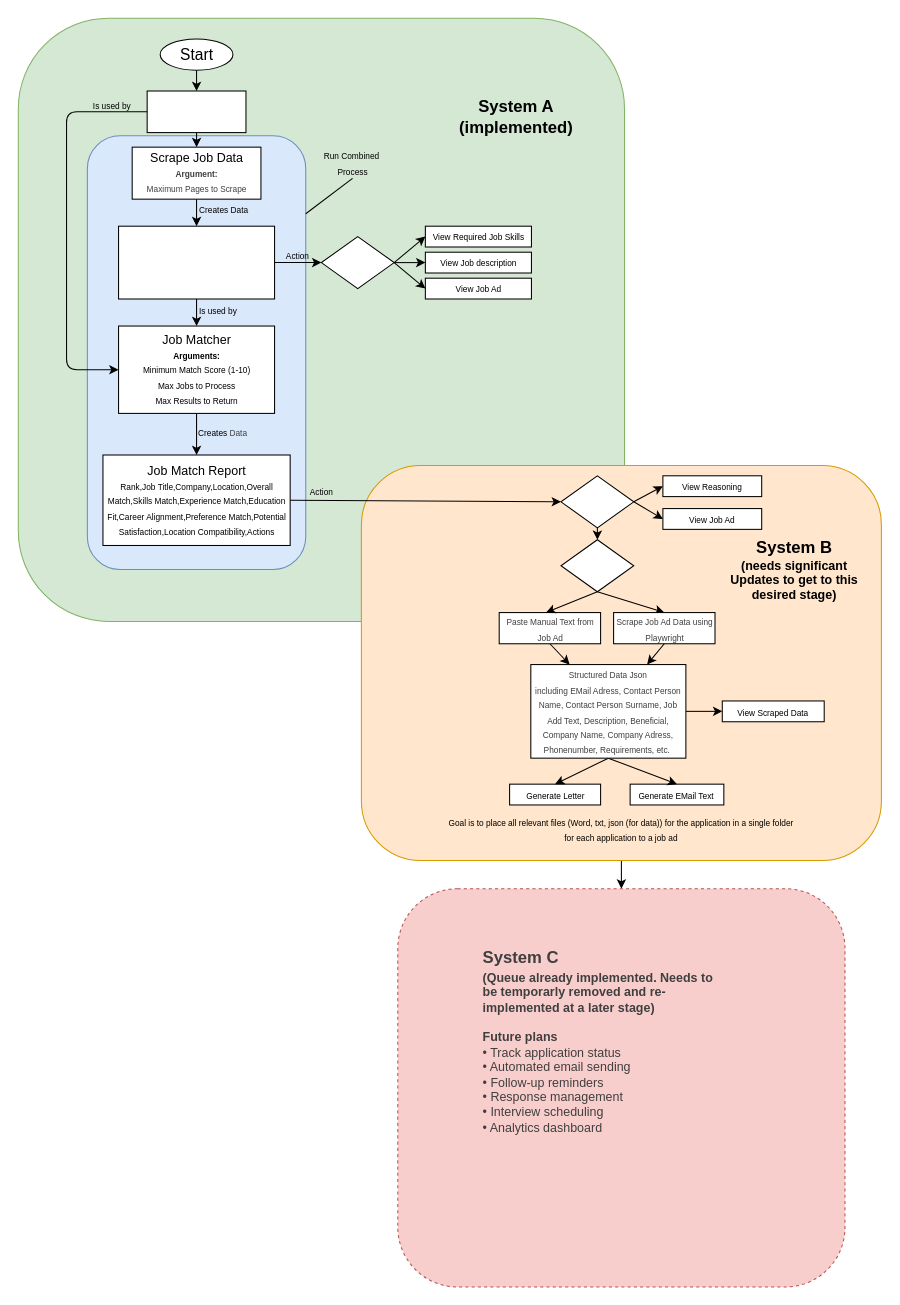
The diagram is 900 pixels wide and 1305 high, and some of its shapes have lost their labels. The box of each missing label's shape, as (x1, y1, x2, y2) in pixels:
Actions: (560, 475, 634, 528)
Available Job Data Posting Date,Job Title,Company Name,Location: (118, 225, 275, 299)
Details: (320, 236, 394, 289)
Get Data: (560, 539, 634, 592)
Upload / Read CV: (146, 90, 246, 133)
